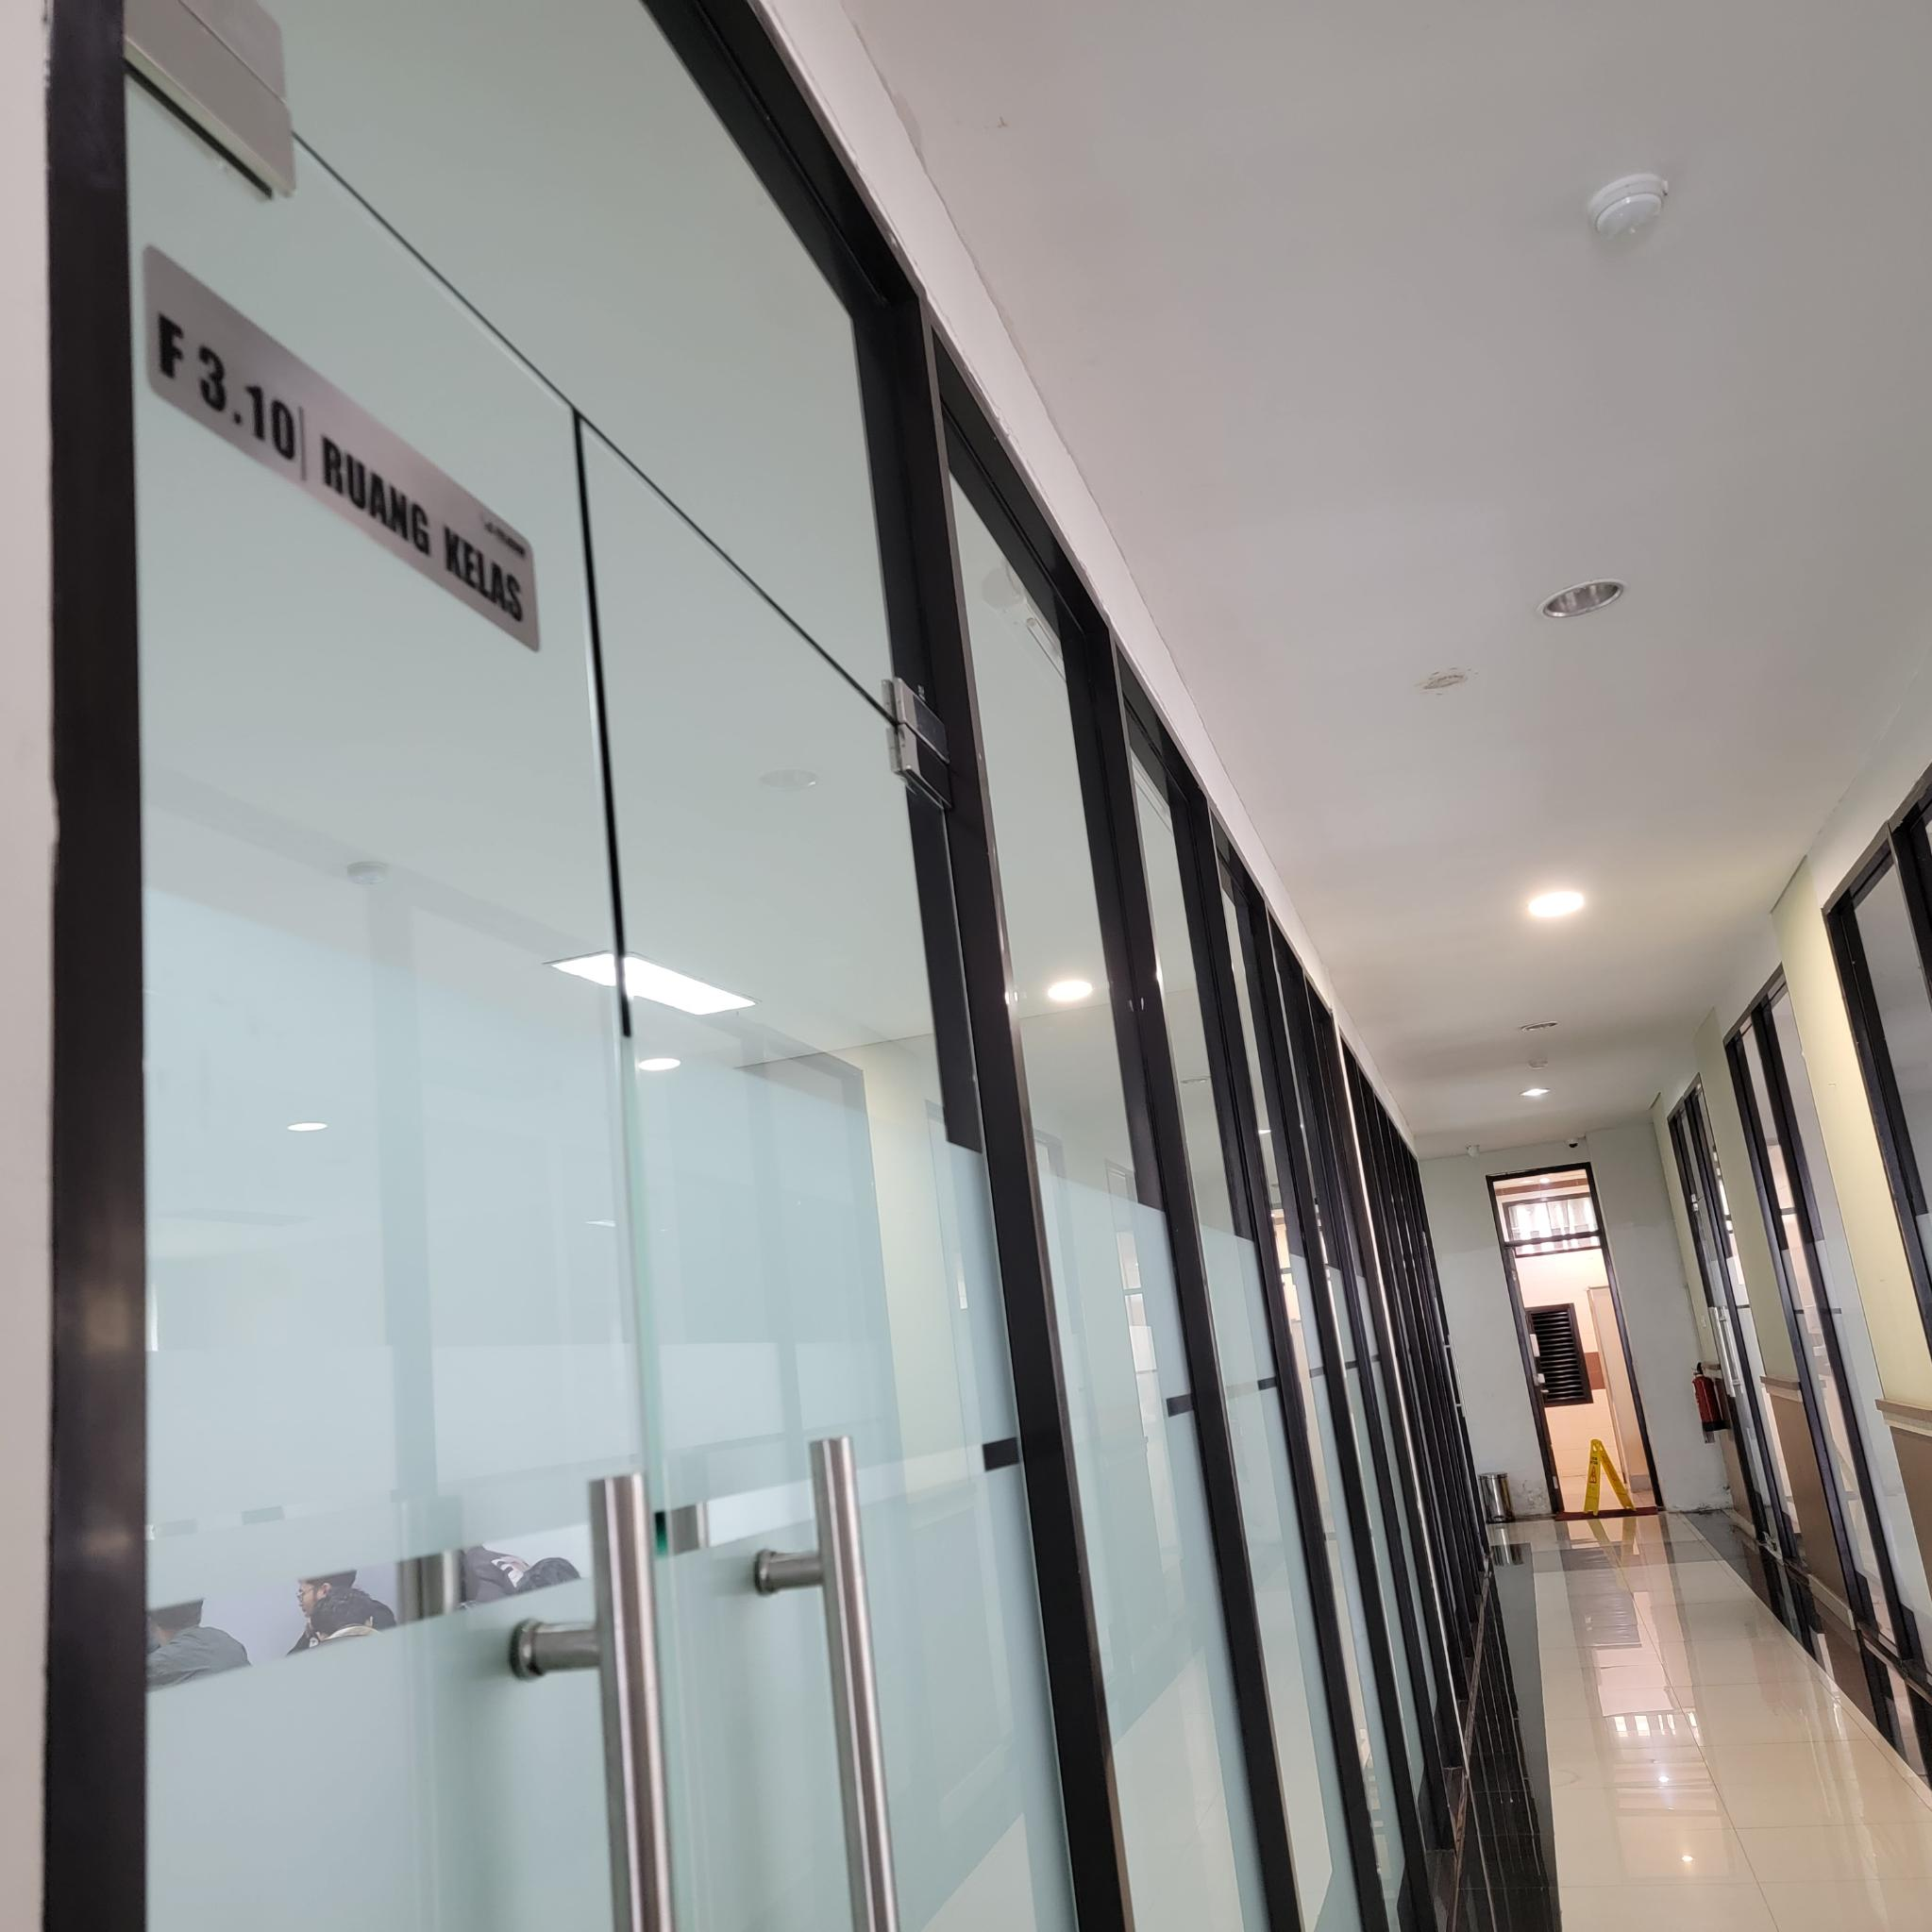plate: (143, 237, 540, 655)
